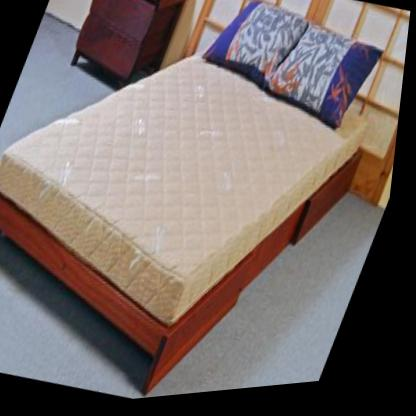Bed: (0, 7, 384, 398)
